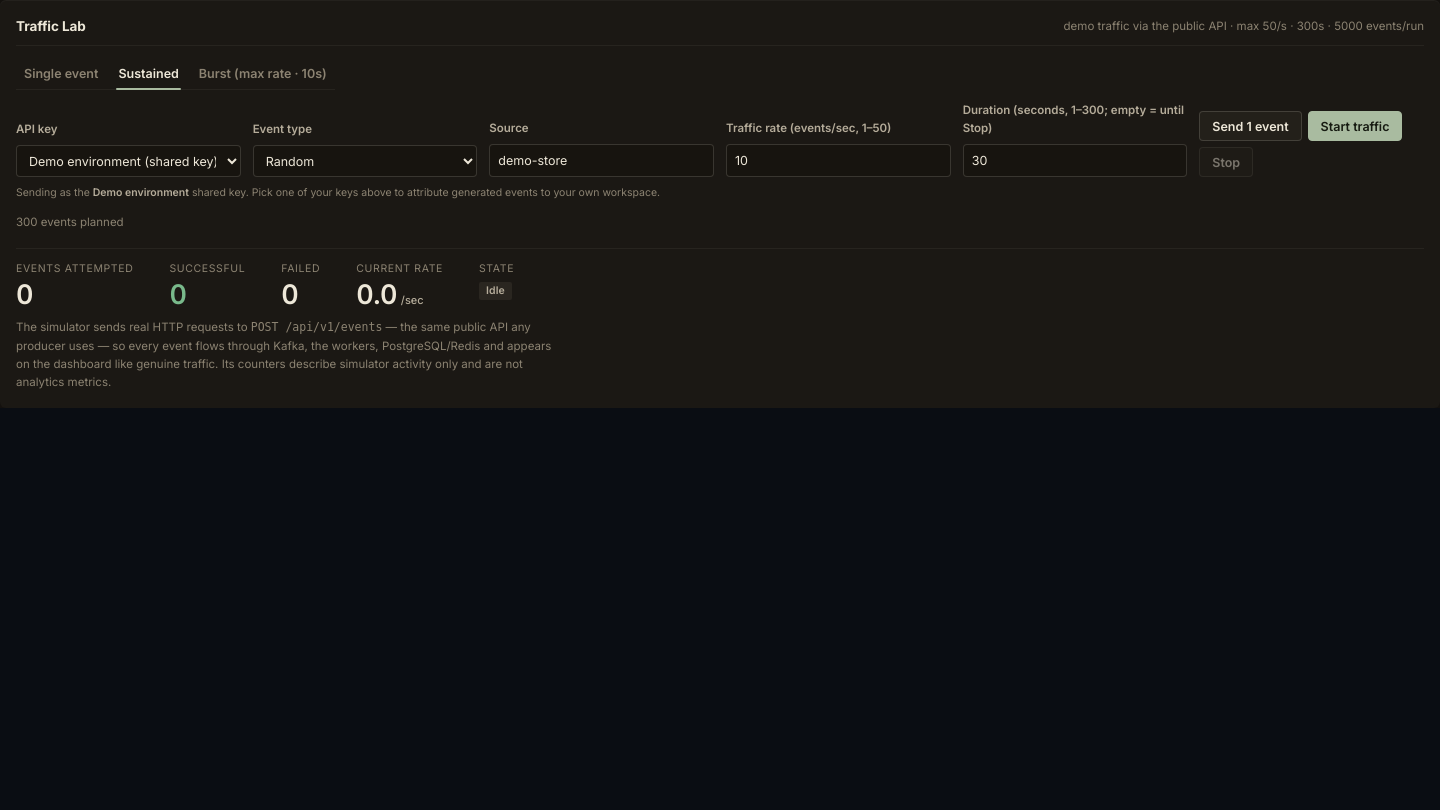
Test: EventSimulator UI › selecting a user's key sends it as the X-API-Key header
Select "Prod ingest — psk_abc123DE…" in the dropdown labelled "API key" at (128, 161), box [16, 145, 241, 177]
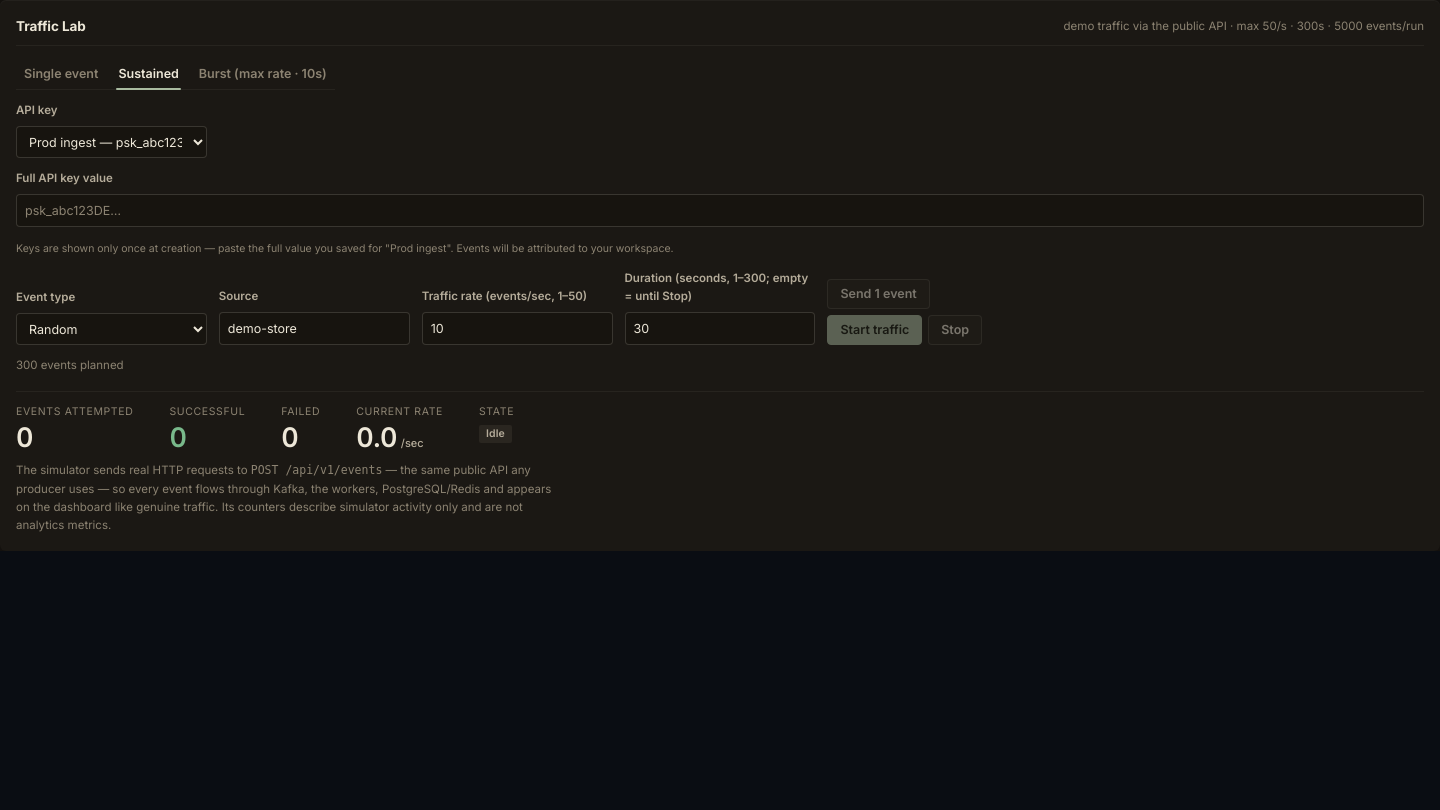
Expected: the button "Send 1 event" is disabled, [827, 279, 930, 309]
Type "psk_abc123DEF456ghi789" into the password field labelled "Full API key value" at (720, 211), box [16, 194, 1424, 227]
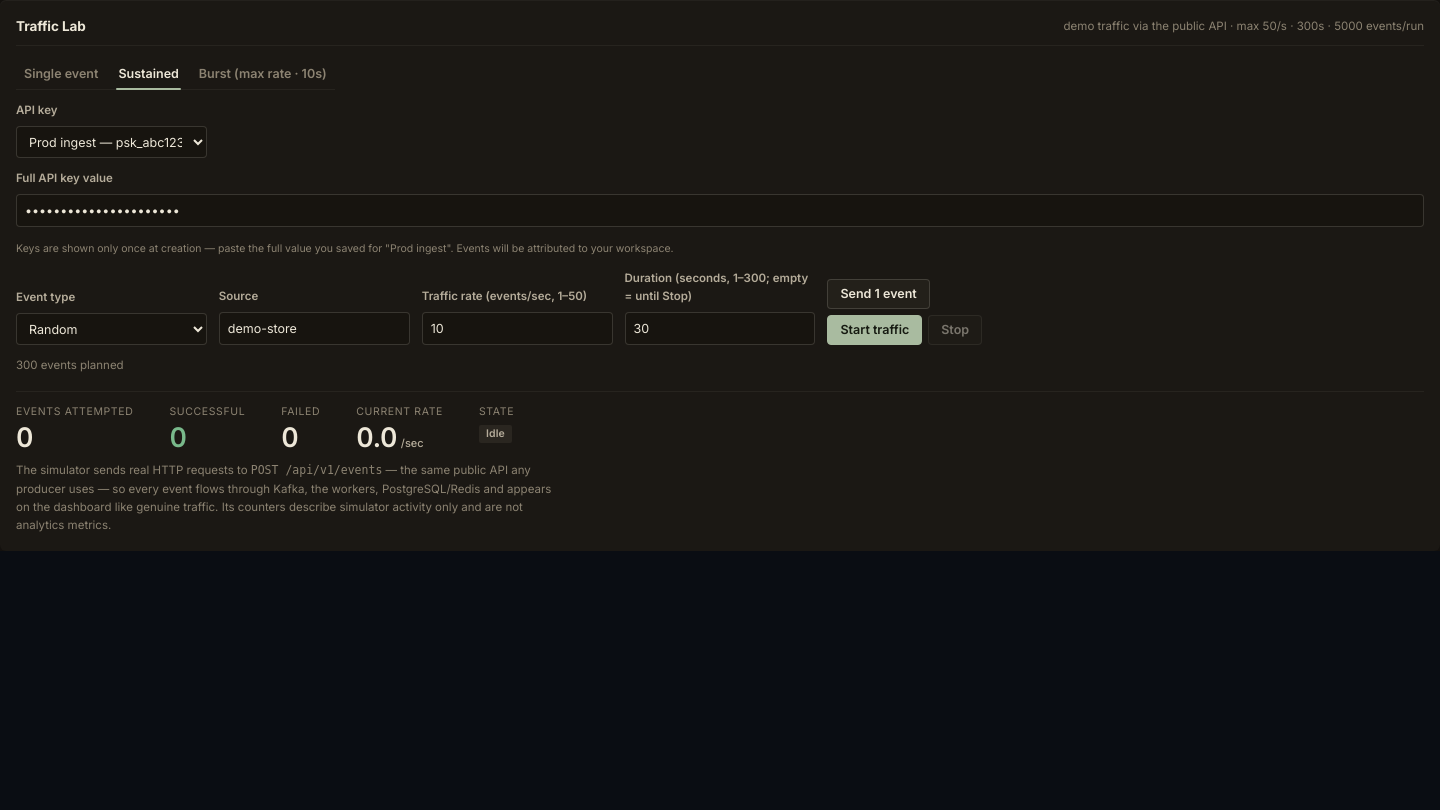
Expected: the button "Send 1 event" is enabled
Click the button "Send 1 event" at (879, 294), box [827, 279, 930, 309]
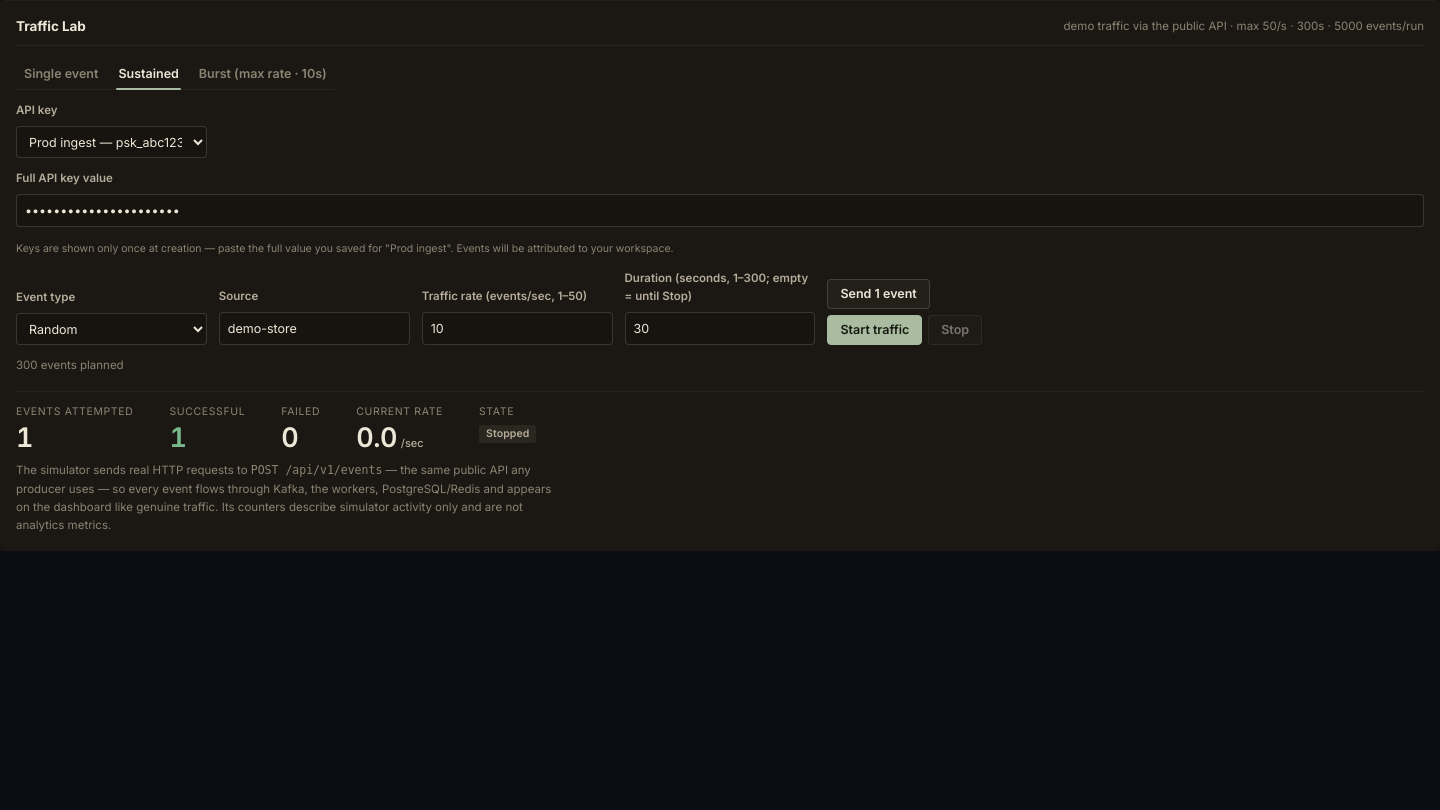
Expected: the text "1" below "Events attempted" is shown, [16, 421, 33, 454]
